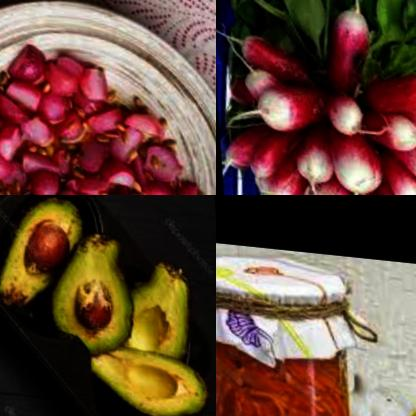avocado: (0, 195, 112, 328), (50, 211, 138, 366), (112, 252, 206, 373), (86, 342, 216, 416)
rediska: (216, 0, 416, 195), (0, 53, 191, 195)
squash-patisson: (339, 361, 413, 416)
